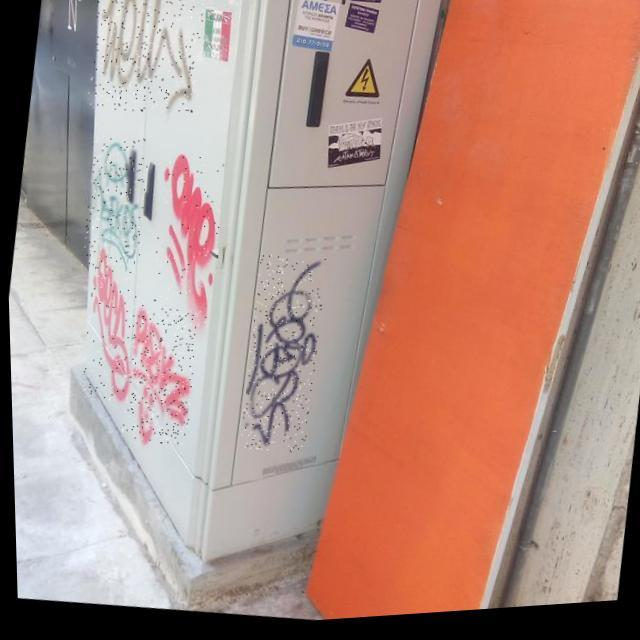-: (232, 254, 330, 461), (142, 153, 230, 334), (83, 0, 208, 124), (115, 303, 202, 451), (72, 243, 146, 408), (77, 134, 153, 274)
